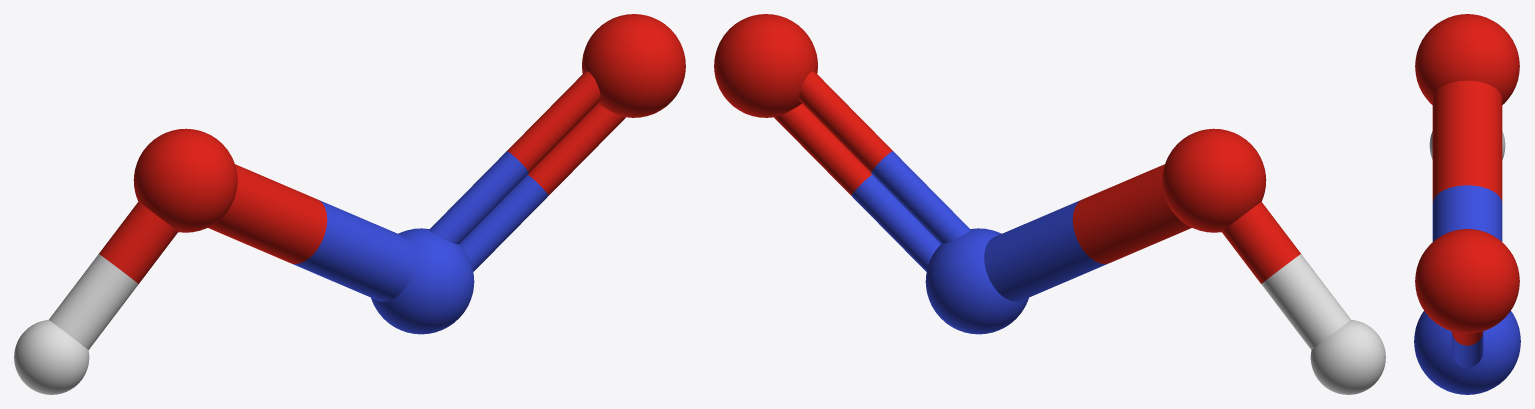
3 views of the same model, side by side, from view 1: azimuth 30°, elevation 25°; view 2: azimuth 150°, elevation 25°; view 3: azimuth 270°, elevation 25° (orthographic).
Bounding box in the file's own units: 3.34 × 1.25 × 0.465.
